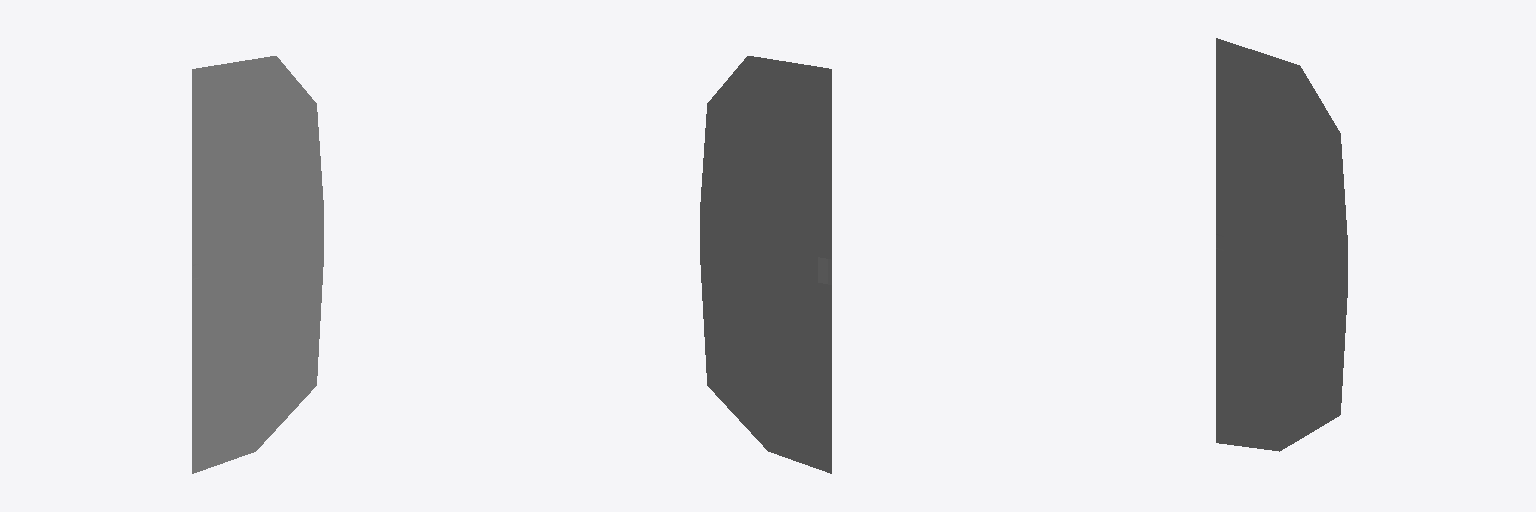
Rendered from aucman_bdrop_sea.obj.
3 renders of one model, left to right at view 1: azimuth 30°, elevation 25°; view 2: azimuth 150°, elevation 25°; view 3: azimuth 330°, elevation 25°, orthographic.
Visible parts, largest first — view 1: g_ocean; view 2: g_ocean, g_sand; view 3: g_ocean.
Part boxes in pixels (bbox=[...]): g_ocean: bbox=[192, 56, 323, 473]; g_ocean: bbox=[700, 56, 831, 473]; g_sand: bbox=[792, 251, 831, 284]; g_ocean: bbox=[1216, 38, 1347, 451].
Bounding box in the file's own units: 200000 × 572400 × 3500.